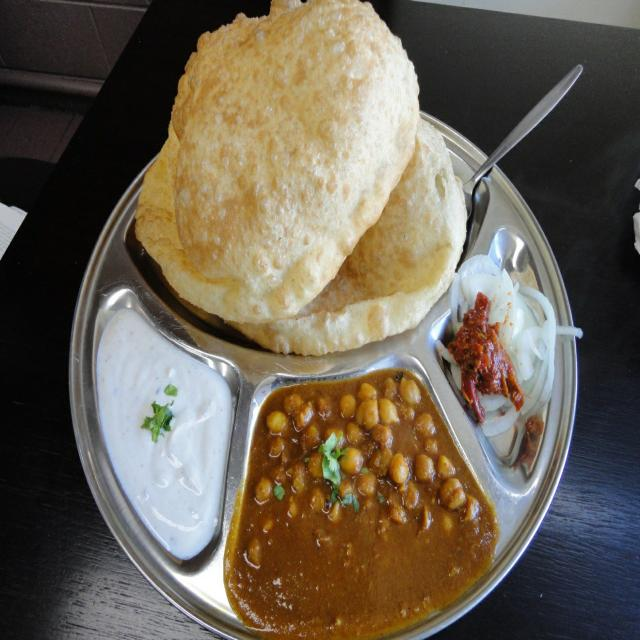Bhatura: (136, 0, 460, 359)
Chole: (227, 368, 484, 616)
